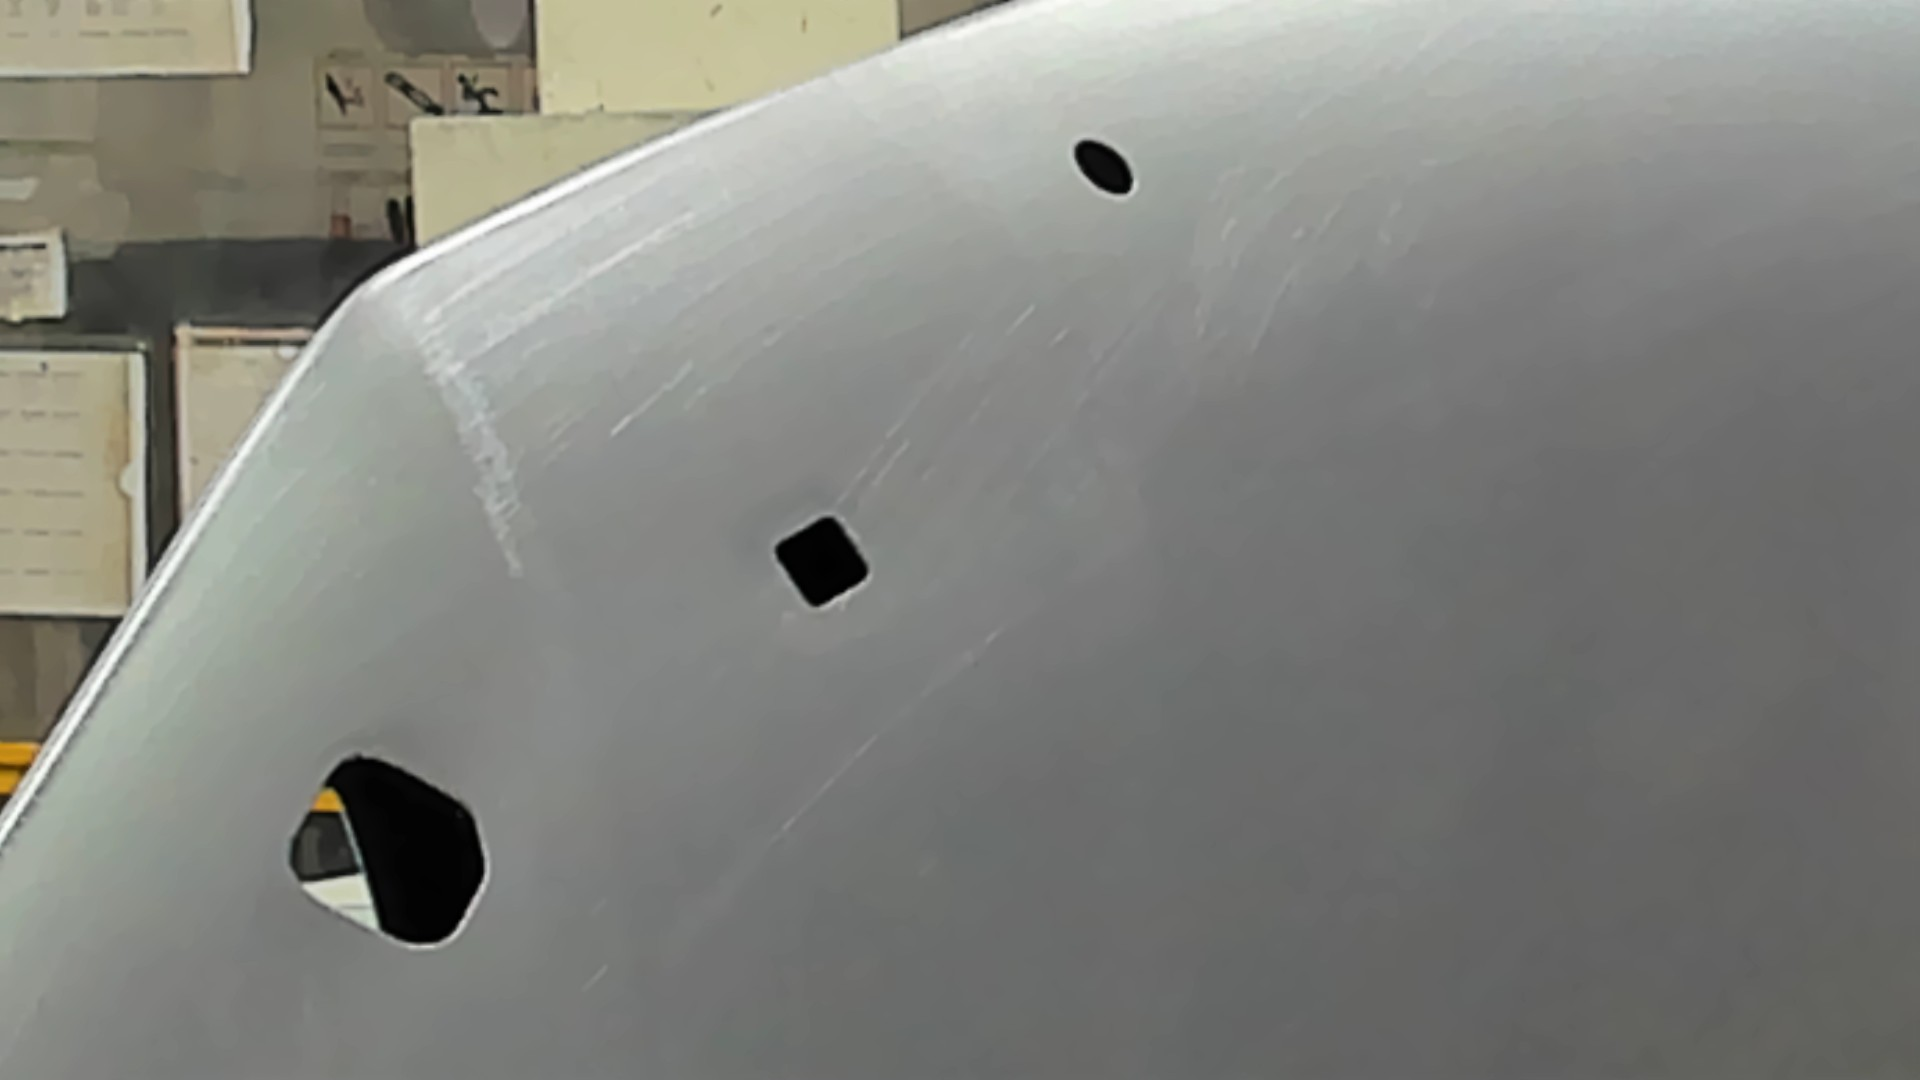chico: (1069, 135, 1141, 199)
grande: (276, 744, 495, 959)
mediano: (764, 509, 877, 618)
